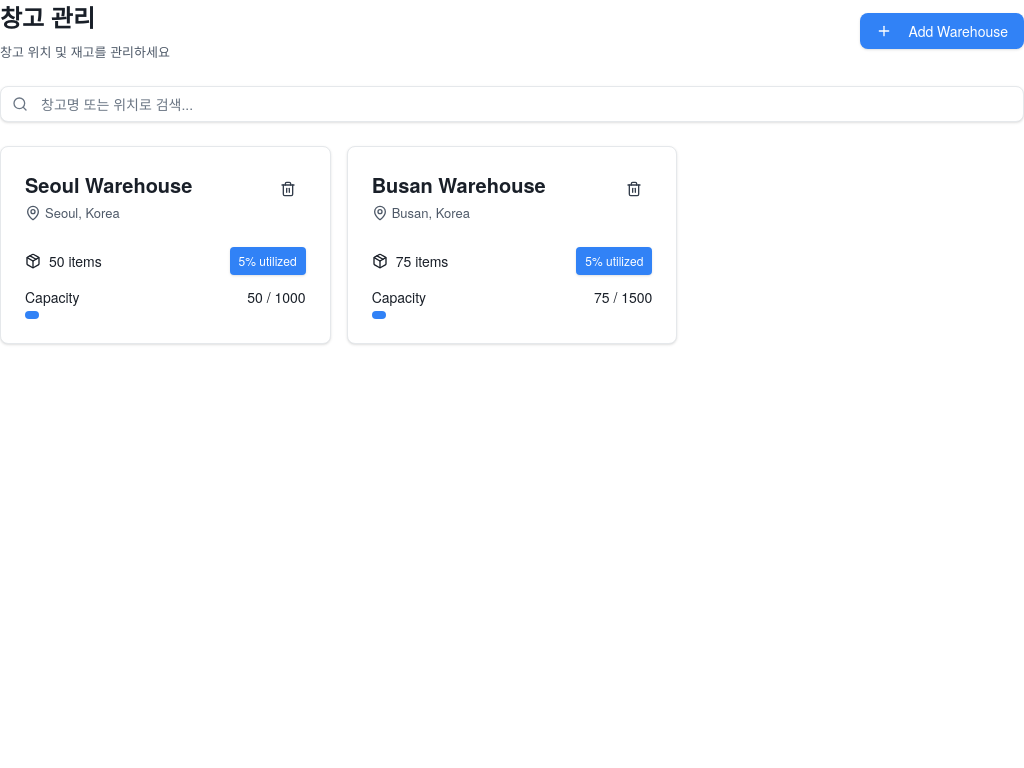
Test: Warehouses Page › should open add warehouse modal
Expected: the link "Seoul Warehouse" is shown, left=25, top=170, right=192, bottom=199
Step 1. Click the button "Add Warehouse" → coordinates (942, 31), box left=860, top=13, right=1023, bottom=49
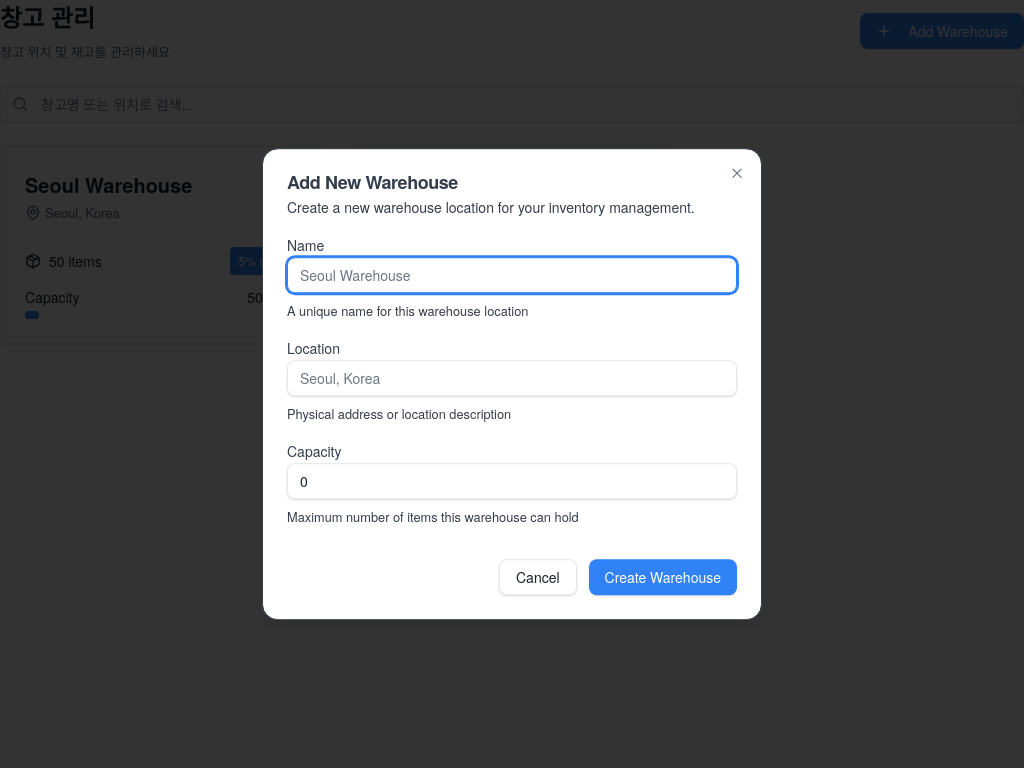
Now the dialog is shown, box left=262, top=148, right=762, bottom=620
Now the field labelled "Name" is shown, box left=287, top=257, right=737, bottom=293
Now the field labelled "Location" is shown, box left=287, top=360, right=737, bottom=396
